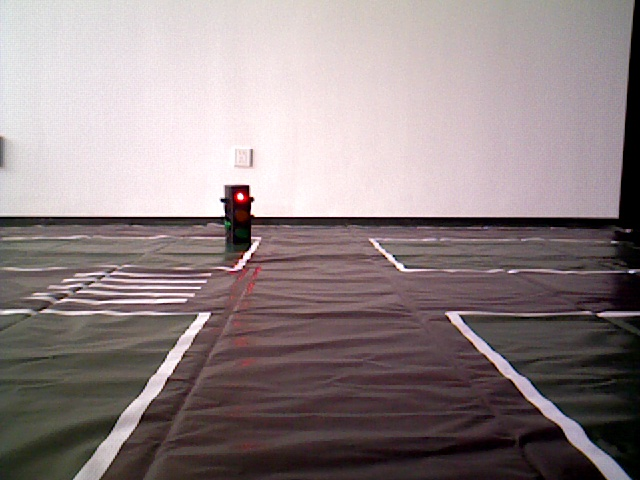red: (222, 185, 248, 247)
